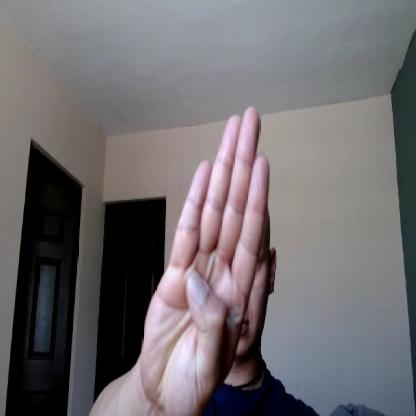B: (140, 104, 270, 415)
